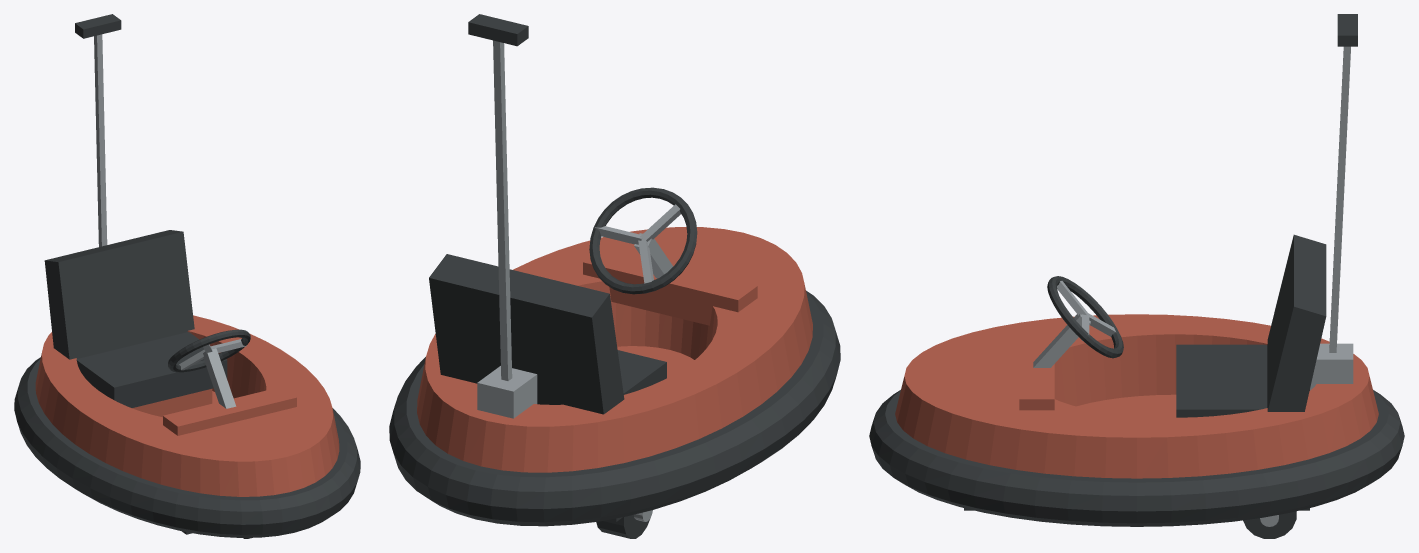
The picture shows the model from 3 angles, left to right: view 1: azimuth 30°, elevation 25°; view 2: azimuth 150°, elevation 25°; view 3: azimuth 270°, elevation 25°; orthographic projection. The views are drawn at different scales.
Visible parts, largest first — view 1: WholeRoundedOpenCockpitBodyWithFloor, WholeContinuousOvalBufferRing, WholeInclinedSeatBack, WholeBroadSeatCushion, WholeFrontDashboard, WholeTallRearPickupMast, WholeTiltedSteeringRim, WholeSeatPedestal, WholeInclinedSteeringColumn, WholePickupContactShoe; view 2: WholeRoundedOpenCockpitBodyWithFloor, WholeContinuousOvalBufferRing, WholeInclinedSeatBack, WholeFrontDashboard, WholeTallRearPickupMast, WholeTiltedSteeringRim, WholeRearPickupMastSocket, WholeBroadSeatCushion, WholePickupContactShoe, RearLeftWholeGroundWheel, WholeInclinedSteeringColumn, WholeSteeringSpoke_3; view 3: WholeRoundedOpenCockpitBodyWithFloor, WholeContinuousOvalBufferRing, WholeInclinedSeatBack, WholeBroadSeatCushion, WholeFrontDashboard, WholeTallRearPickupMast, WholeTiltedSteeringRim, WholeRearPickupMastSocket, WholeInclinedSteeringColumn, RearRightWholeGroundWheel, WholePickupContactShoe.
Boxes of the visible parts, x1,y1,x2,y2 form: WholeRoundedOpenCockpitBodyWithFloor: [35, 315, 339, 496]; WholeContinuousOvalBufferRing: [14, 357, 360, 537]; WholeInclinedSeatBack: [44, 230, 194, 359]; WholeBroadSeatCushion: [76, 332, 227, 407]; WholeFrontDashboard: [163, 386, 296, 435]; WholeTallRearPickupMast: [94, 34, 107, 246]; WholeTiltedSteeringRim: [168, 329, 250, 372]; WholeSeatPedestal: [132, 389, 212, 417]; WholeInclinedSteeringColumn: [203, 348, 236, 408]; WholePickupContactShoe: [75, 14, 121, 38]; WholeRoundedOpenCockpitBodyWithFloor: [417, 227, 812, 472]; WholeContinuousOvalBufferRing: [389, 290, 840, 526]; WholeInclinedSeatBack: [429, 254, 624, 414]; WholeFrontDashboard: [583, 248, 757, 325]; WholeTallRearPickupMast: [493, 40, 512, 380]; WholeTiltedSteeringRim: [589, 187, 697, 294]; WholeRearPickupMastSocket: [477, 366, 537, 418]; WholeBroadSeatCushion: [617, 350, 666, 394]; WholePickupContactShoe: [468, 14, 528, 46]; RearLeftWholeGroundWheel: [596, 515, 650, 538]; WholeInclinedSteeringColumn: [634, 233, 672, 278]; WholeSteeringSpoke_3: [640, 204, 680, 241]; WholeRoundedOpenCockpitBodyWithFloor: [895, 314, 1378, 478]; WholeContinuousOvalBufferRing: [869, 390, 1404, 526]; WholeInclinedSeatBack: [1267, 234, 1326, 411]; WholeBroadSeatCushion: [1176, 344, 1267, 417]; WholeFrontDashboard: [1019, 330, 1054, 410]; WholeTallRearPickupMast: [1329, 46, 1350, 352]; WholeTiltedSteeringRim: [1047, 276, 1123, 358]; WholeRearPickupMastSocket: [1310, 343, 1353, 390]; WholeInclinedSteeringColumn: [1033, 313, 1090, 367]; RearRightWholeGroundWheel: [1243, 511, 1296, 538]; WholePickupContactShoe: [1337, 14, 1357, 46].
Bounding box in the file's own units: 1.32 × 1.92 × 1.98.
